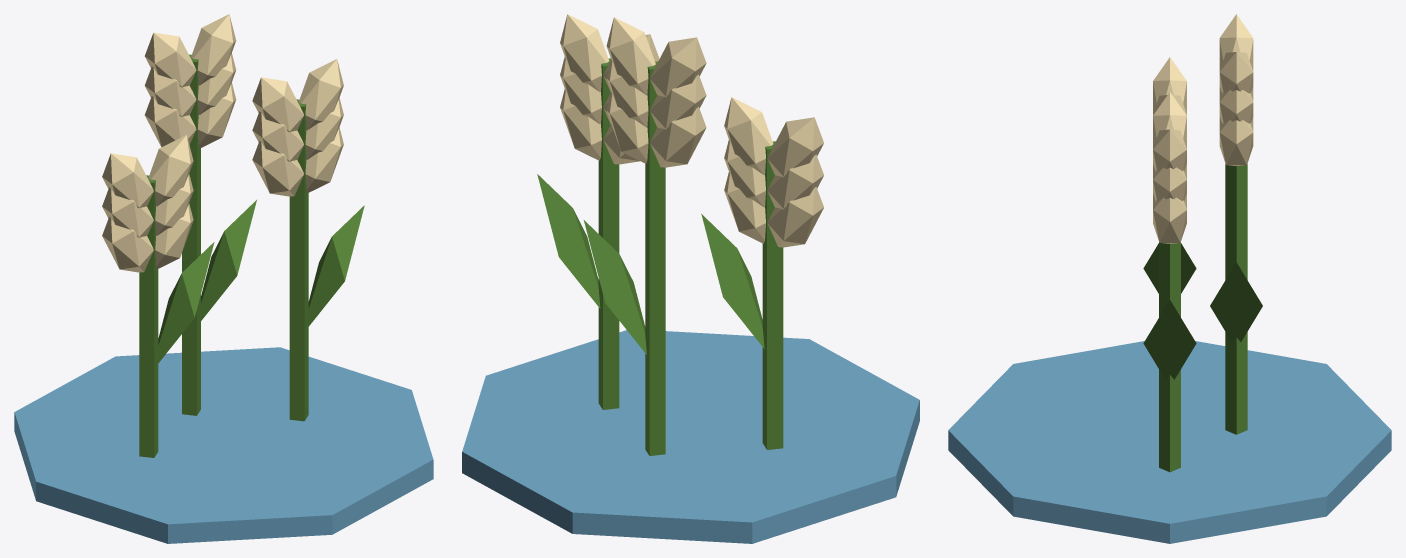
Rendered from res_rice.glb.
3 renders of one model, left to right at view 1: azimuth 30°, elevation 25°; view 2: azimuth 150°, elevation 25°; view 3: azimuth 270°, elevation 25°, orthographic. The views are drawn at different scales.
Visible parts, largest first — view 1: res_rice; view 2: res_rice; view 3: res_rice.
Boxes of the visible parts, x1=… form: res_rice: x1=14, y1=14, x2=433, y2=543; res_rice: x1=462, y1=14, x2=919, y2=543; res_rice: x1=948, y1=14, x2=1391, y2=543.
Bounding box in the file's own units: 0.2 × 0.2077 × 0.2.
